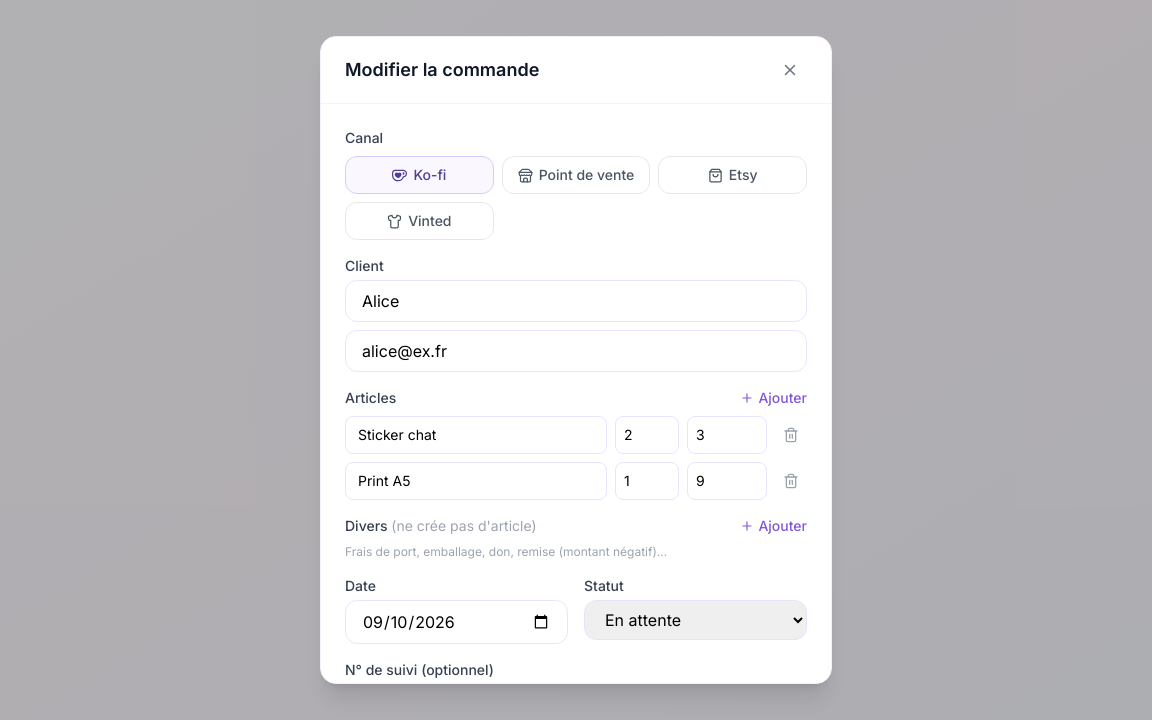
Test: OrderForm en modification › une erreur du serveur s'affiche au lieu de planter
The width and height of the screenshot is (1152, 720).
Replace the text in the 1st field showing "Alice" with "Bob" at (576, 301), box [345,280,807,322]
(page scrolled)
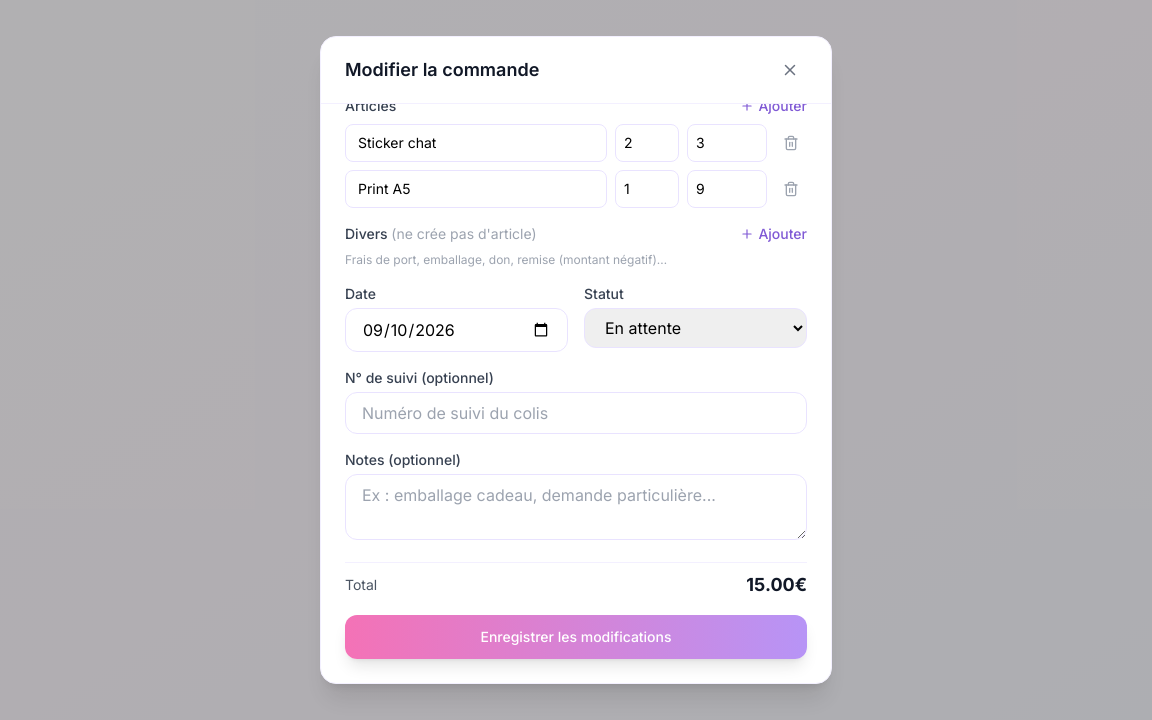
Click the button "Enregistrer les modifications" at (576, 637), box [345,615,807,659]
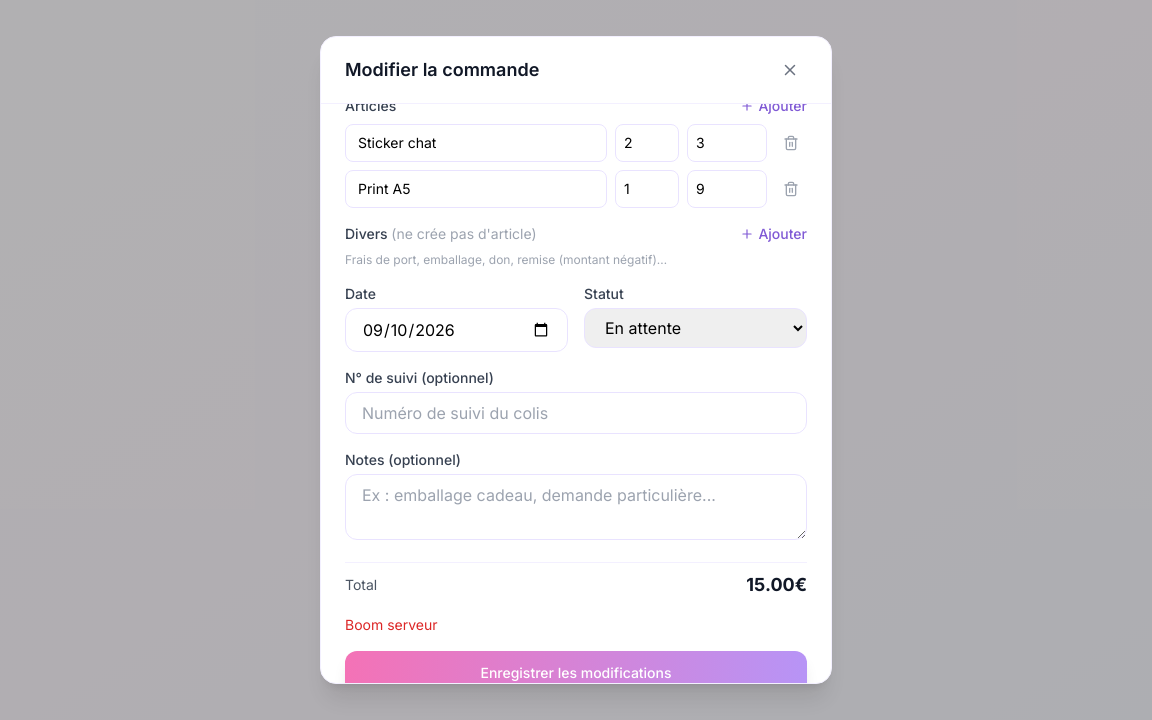
Check: the text "Boom serveur" is shown, box [345,616,438,633]
